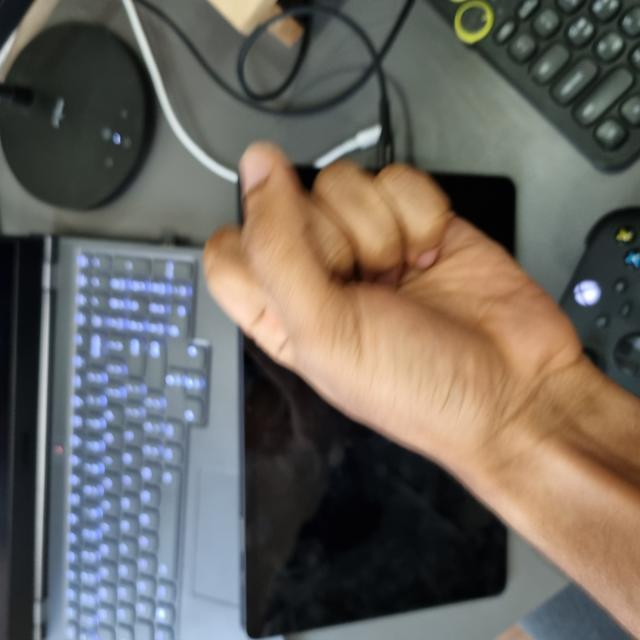Rock: (170, 205, 494, 580)
